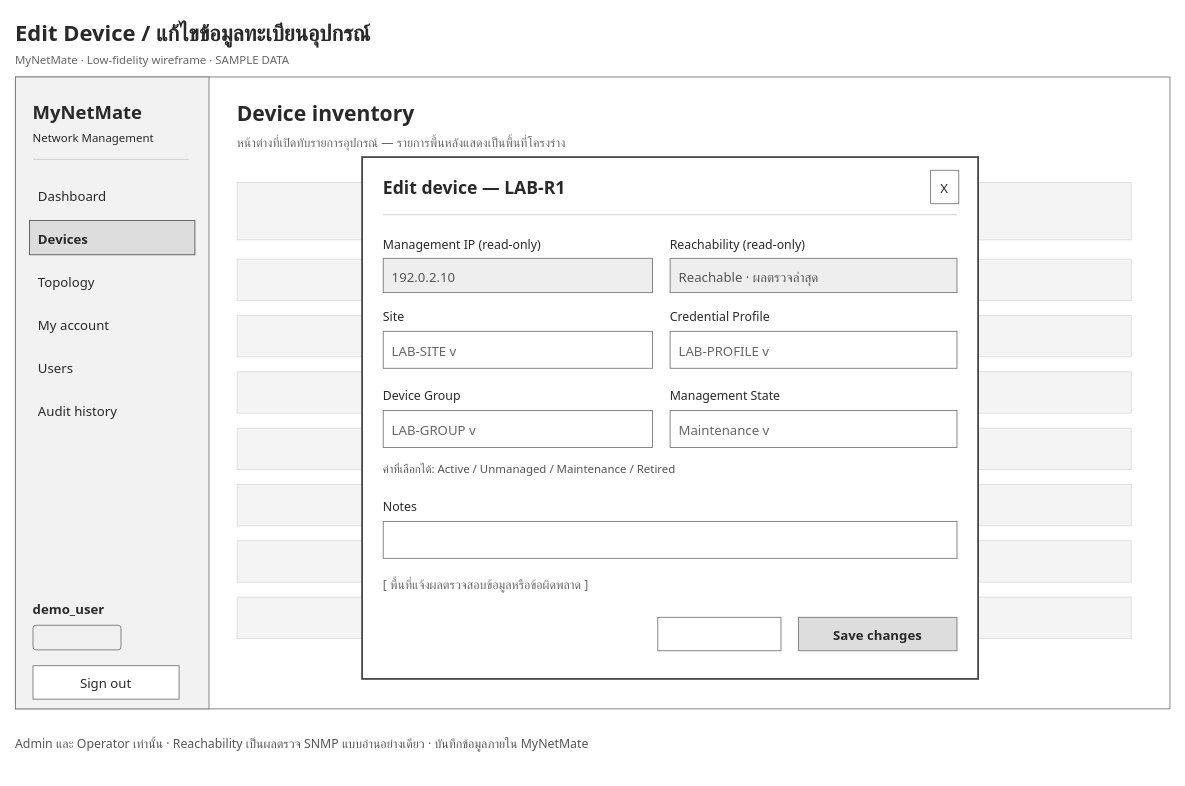
Some shapes in this 1185 by 786 pixel diagram are drawn without their labels. Here are the shapes that lost their labels. From the top down, the centre of each, then its label:
At point (669, 539): "ตรวจบำรุงรักษาอุปกรณ์ในห้องปฏิบัติการ".
At point (76, 637): "Admin".
At point (719, 633): "Cancel".
